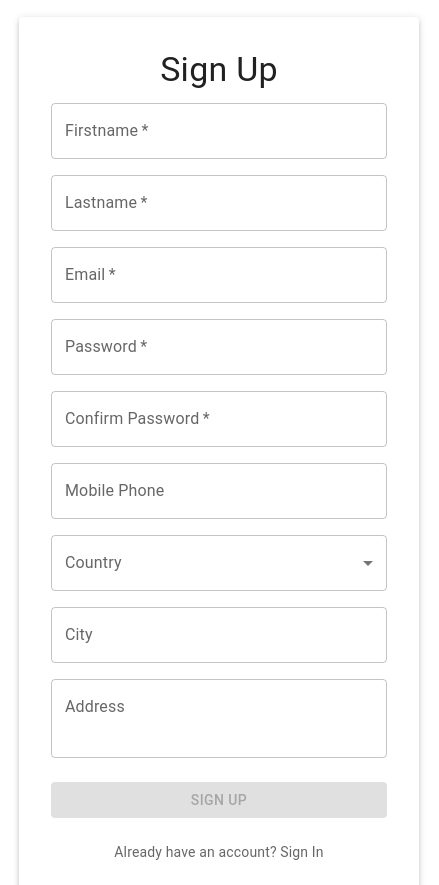
Test: RegisterForm › should show lastname error when lastname is empty after blur
Step 1. Click the field labelled "Lastname *" → (219, 203), box x1=51 y1=175 x2=387 y2=231
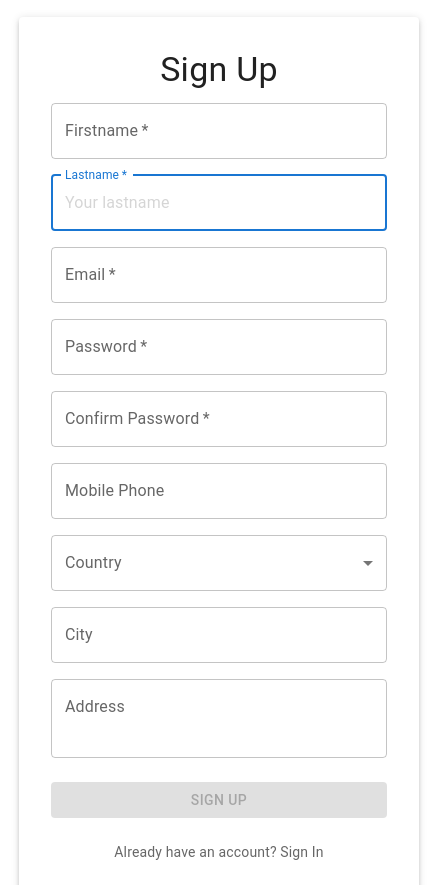
Step 2. Press Tab
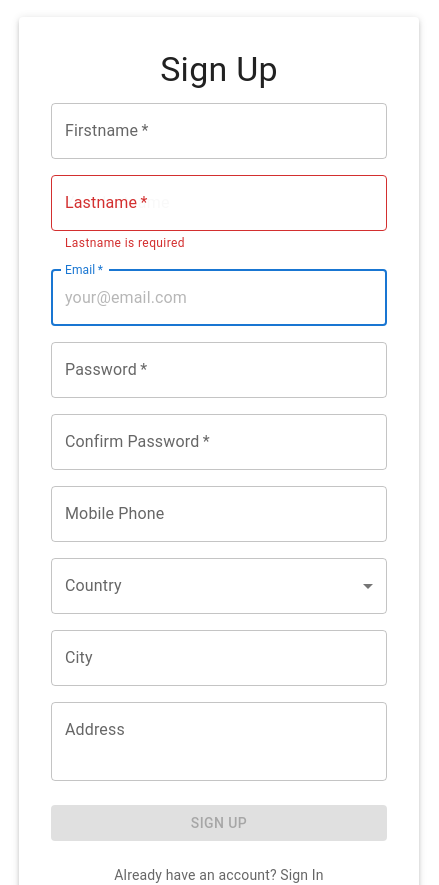
Expected: the text "Lastname is required" is shown, x1=65 y1=236 x2=185 y2=250
